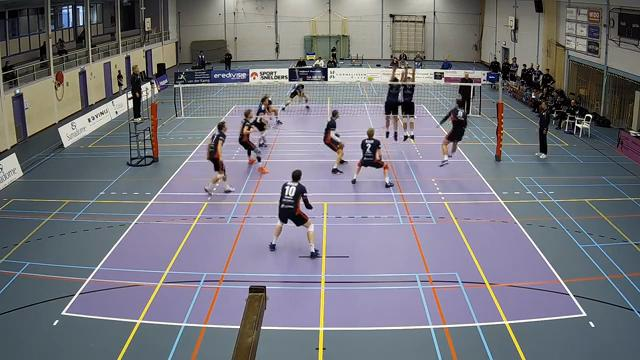attacco: (429, 95, 471, 170)
muro: (375, 55, 403, 142), (402, 57, 421, 141)
